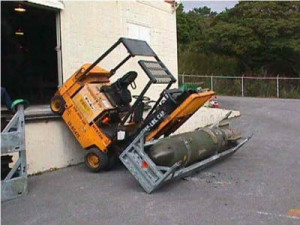unusual: (50, 35, 251, 225)
